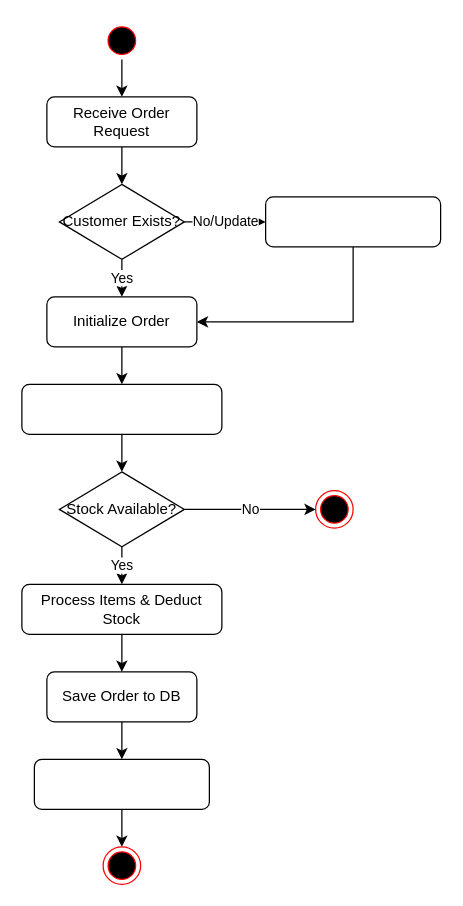
This 463x906 diagram has some shape labels left out. The centre of each missing label's shape, as x and y in pixels:
Create/Update Customer: pixel 352 221
Return Success Response: pixel 121 783
Validate Stock (For Each Item): pixel 121 408
